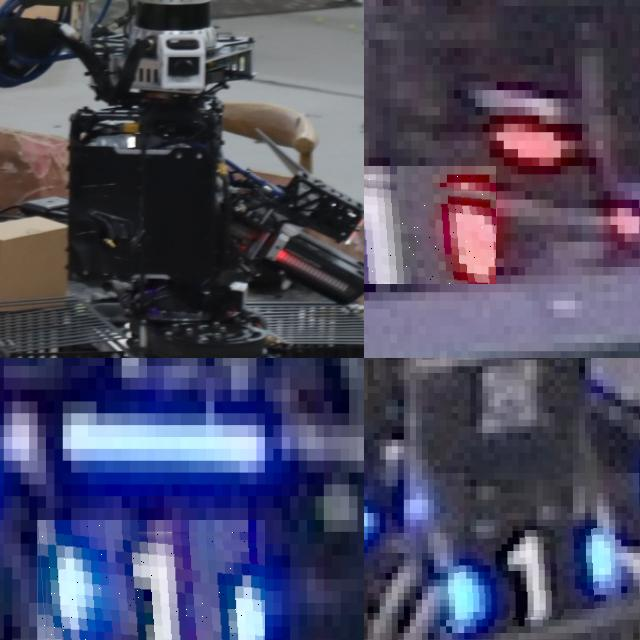B1: (37, 520, 264, 640), (440, 526, 615, 620)
R1: (364, 166, 496, 284)
